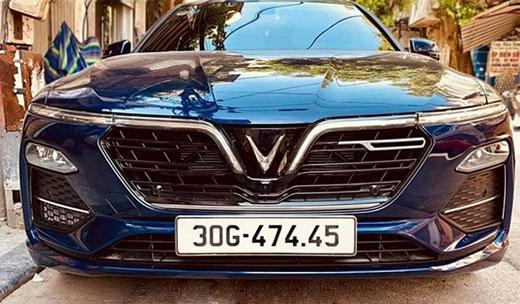numplate: (171, 213, 358, 258)
